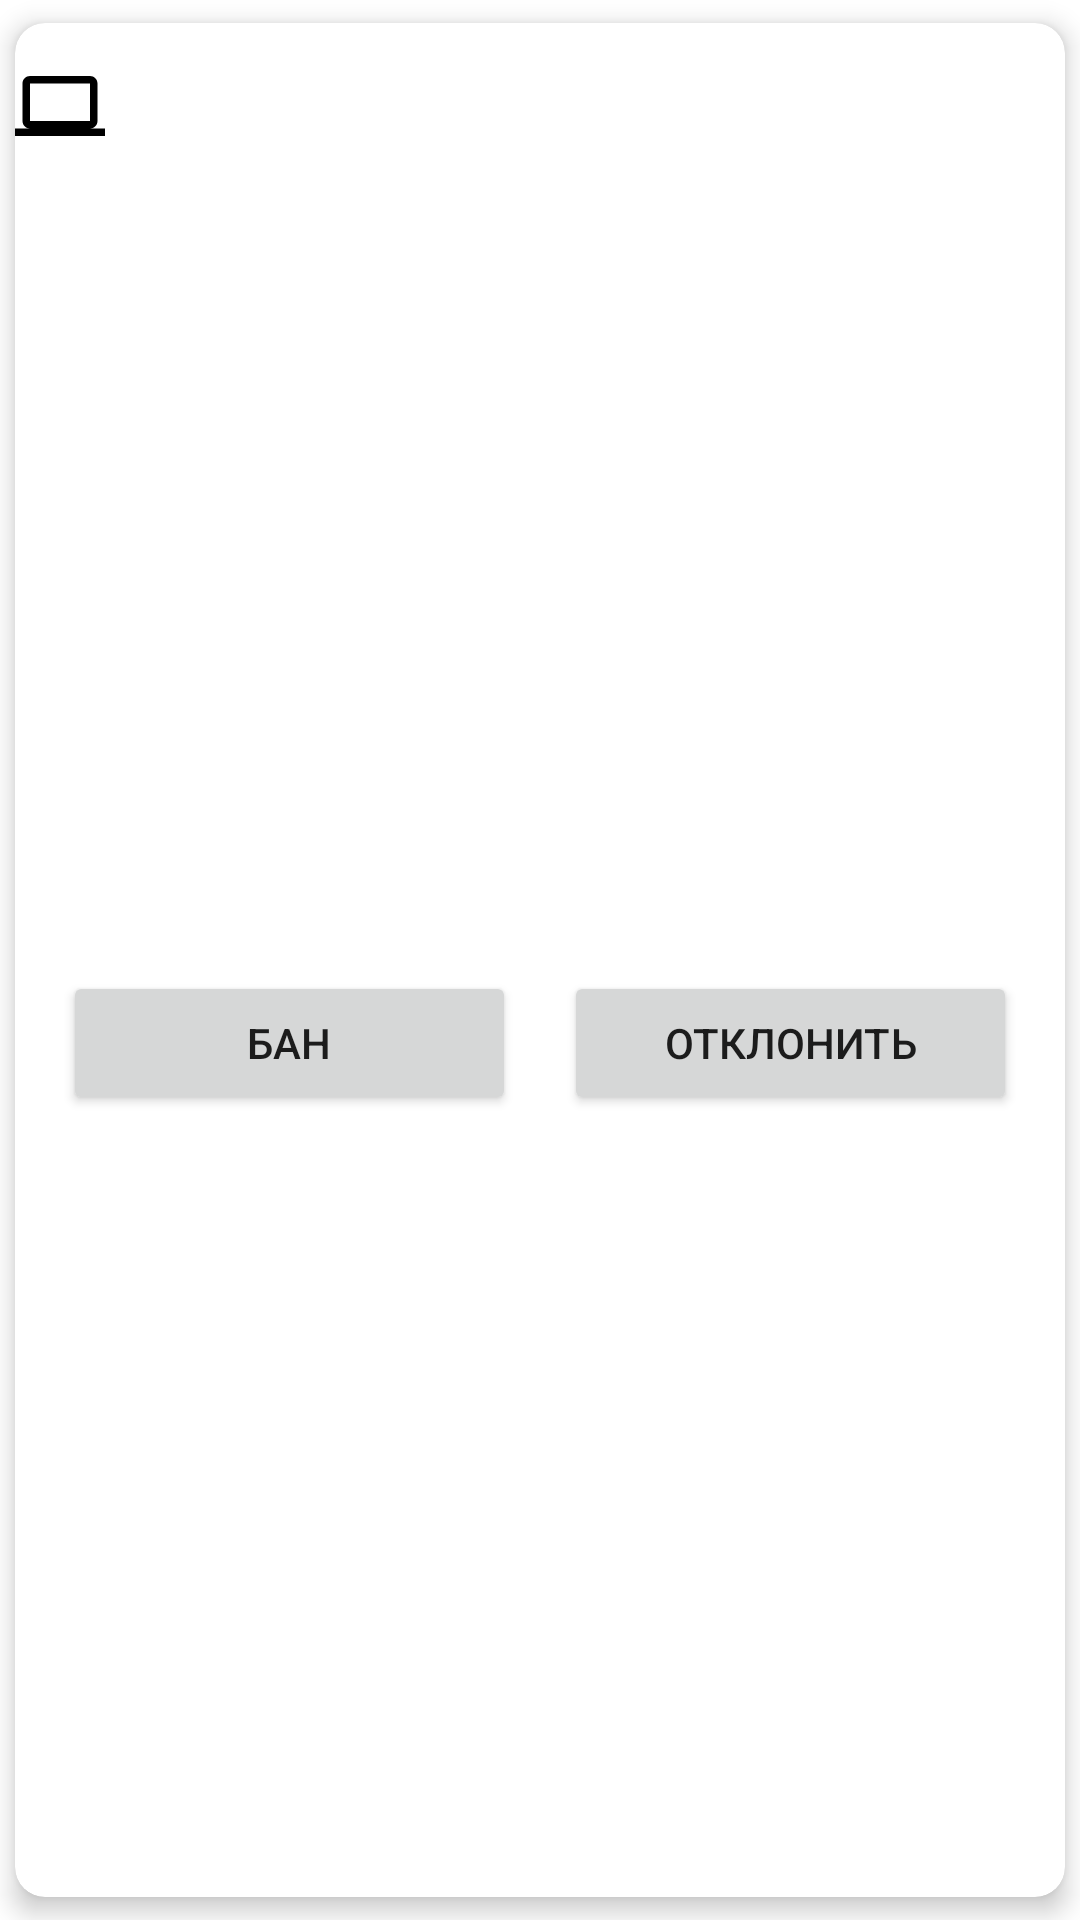

Screen size 1080×1920. Icon name, then its center in pixels as (x=x, y=y):
laptop: (x=60, y=79)
